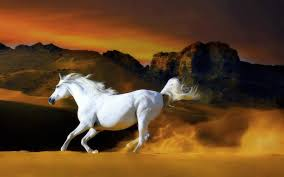horse: (49, 74, 201, 153)
